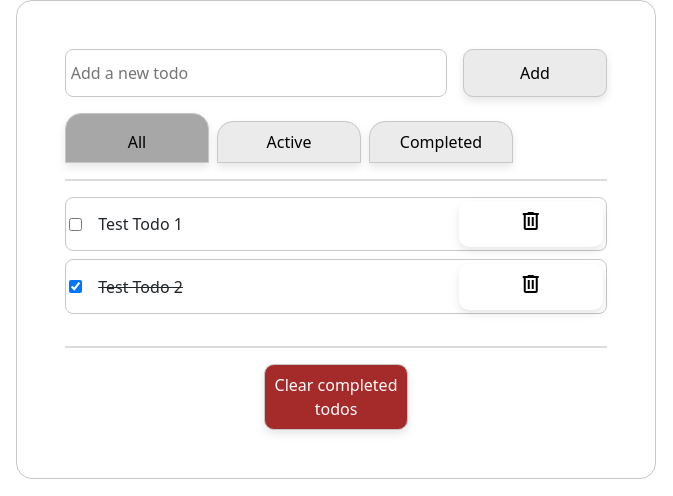
Test case: TodoPage Component › filters completed todos
Expected: the text "Test Todo 2" is shown, [98, 275, 183, 299]
What coordinates should you click on to do the following:
click the button "Completed"
I would click on:
 (441, 142)
Its box is [369, 121, 513, 163].
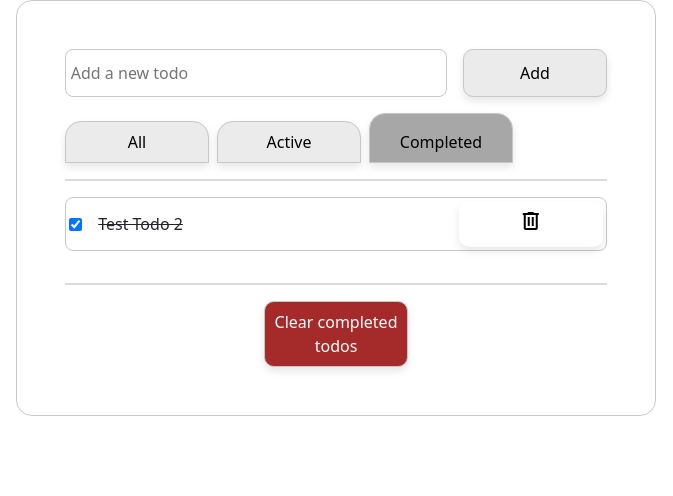
Result: the text "Test Todo 1" is gone
